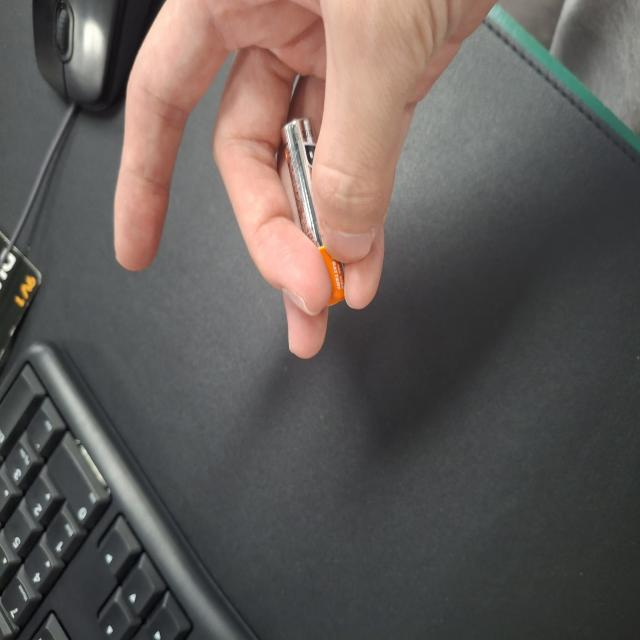AAA: (252, 376, 391, 459)
